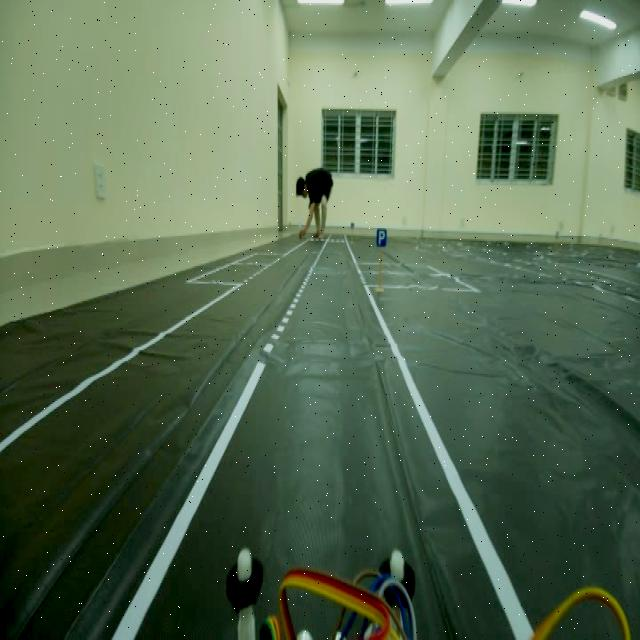parking: (373, 220, 388, 257)
